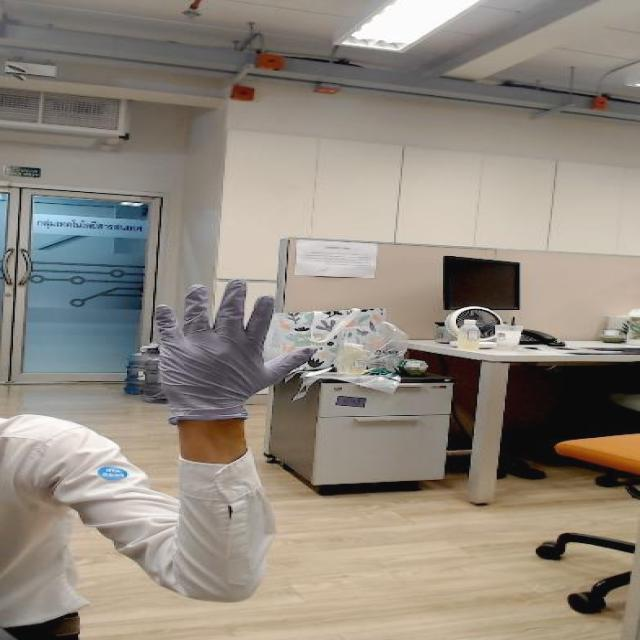glove: (126, 271, 327, 396)
